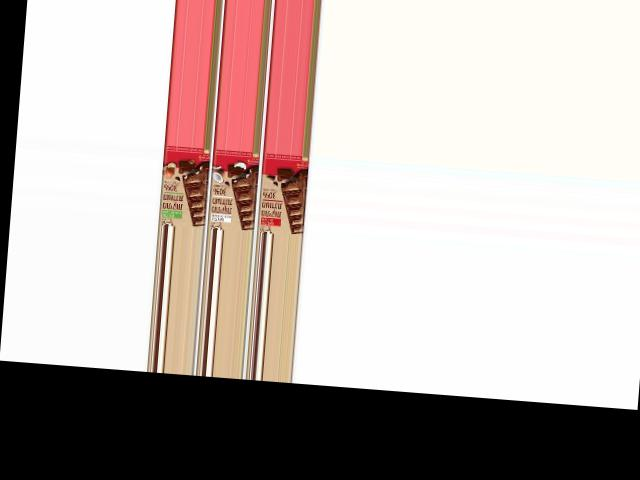chocolate: (156, 144, 209, 227)
